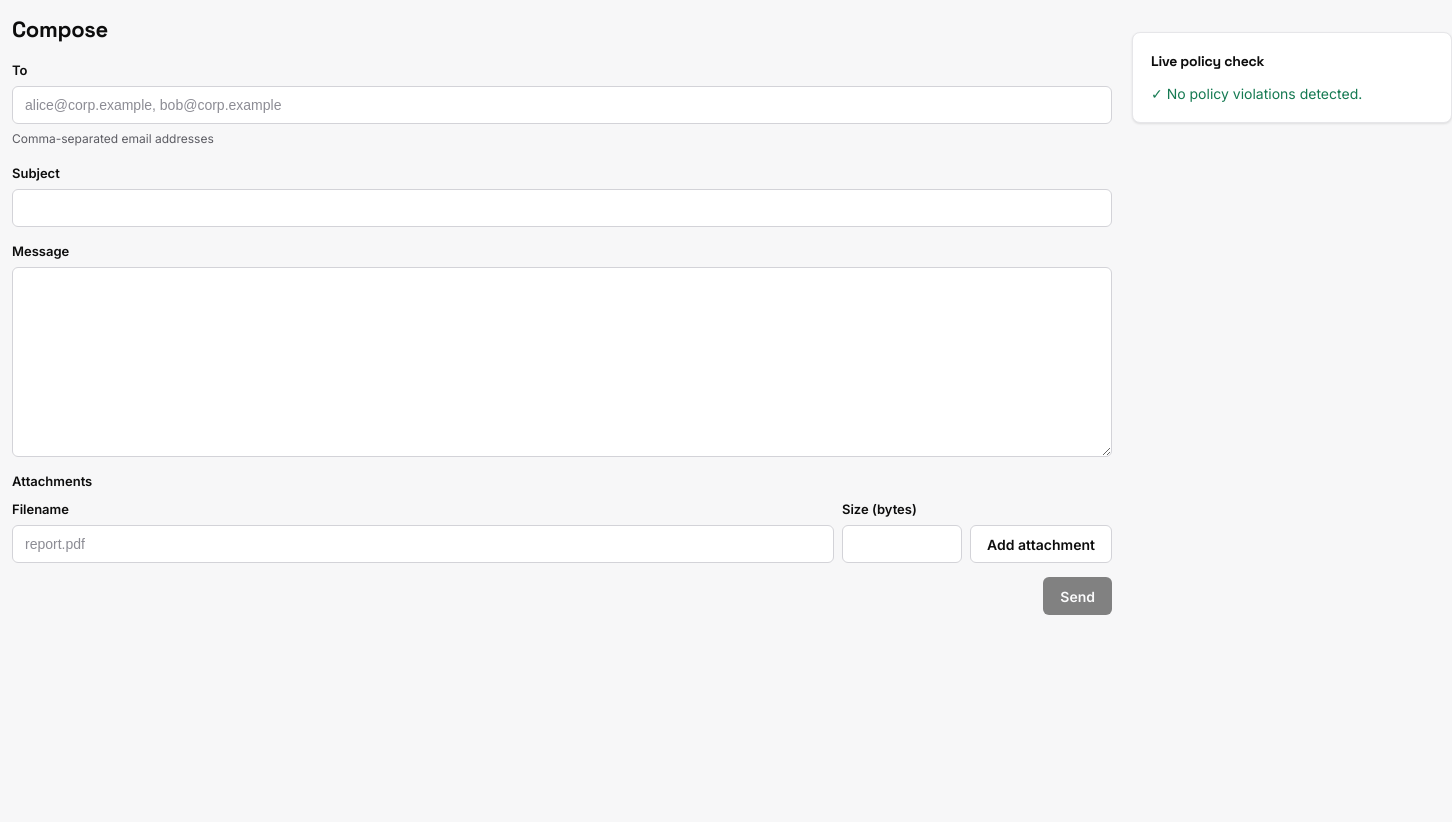
Test case: ComposeView — live scanning › flags a credit-card number as you type and blocks sending
In the text box labelled "Message": (562, 362) [12,267,1112,457], type "my card is 4111 1111 1111 1111"
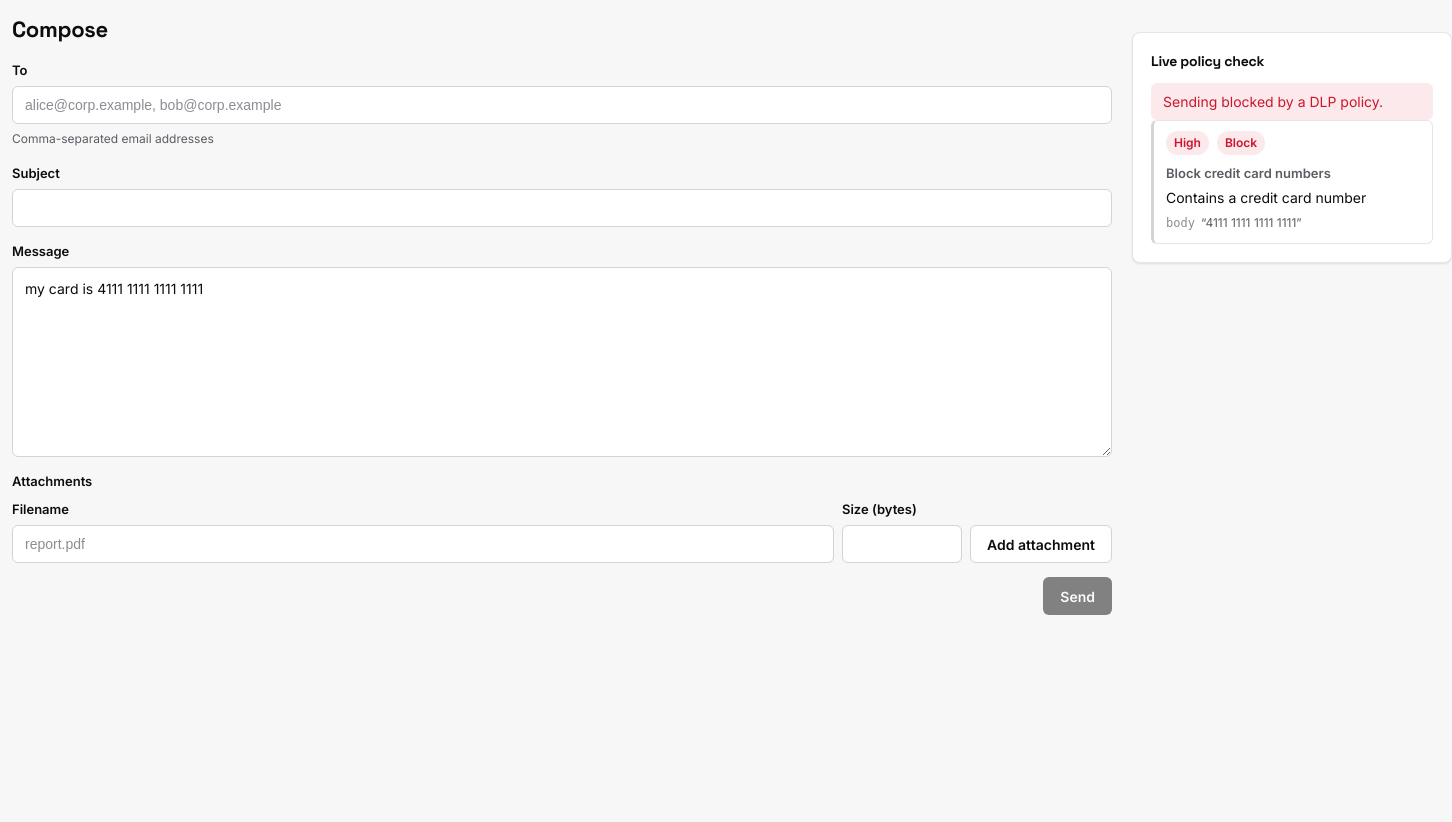
Expected: the button "Send" is disabled, [1043,577,1112,615]
Expected: the text "Contains a credit card number" is shown, [1166,189,1366,206]
Expected: the text "Sending blocked by a DLP policy." is shown, [1151,83,1433,120]
